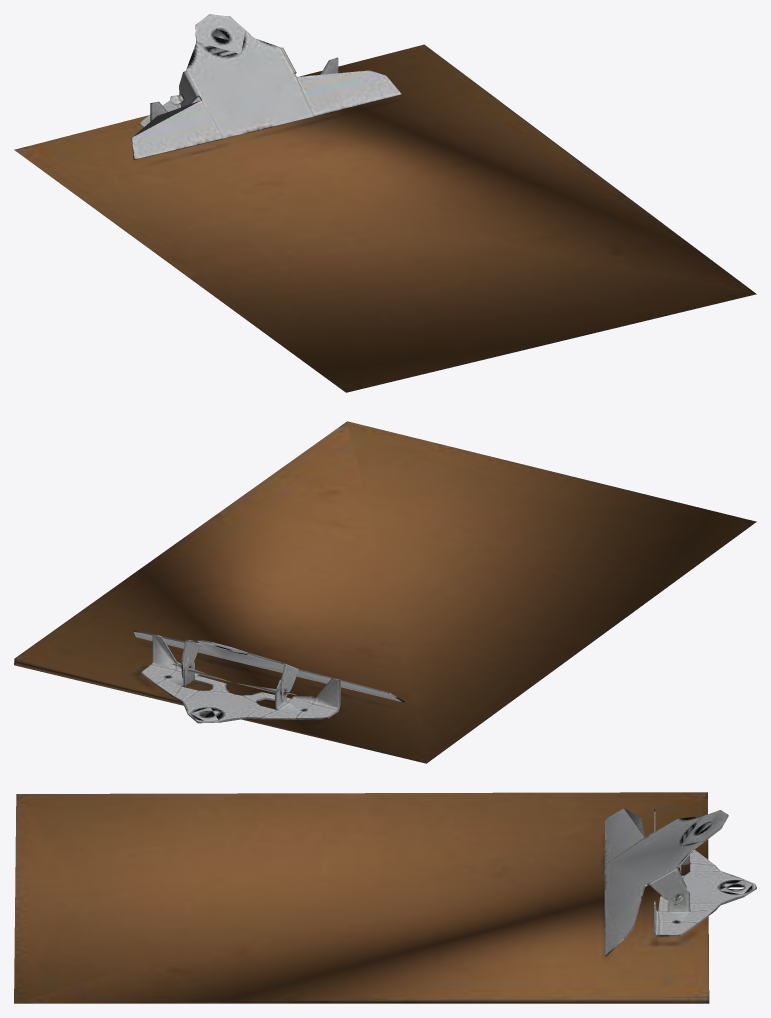
Rendered from clipboard.glb.
3 views of the same model, one above another, from view 1: azimuth 30°, elevation 25°; view 2: azimuth 150°, elevation 25°; view 3: azimuth 270°, elevation 25° (orthographic). The views are drawn at different scales.
Visible parts, largest first — view 1: clipboard; view 2: clipboard; view 3: clipboard.
Boxes of the visible parts, bbox=[...] form: clipboard: bbox=[14, 14, 756, 392]; clipboard: bbox=[14, 421, 756, 763]; clipboard: bbox=[14, 792, 756, 1003].
Bounding box in the file's own units: 0.2232 × 0.0417 × 0.3342.
1 material, 1 textured.
